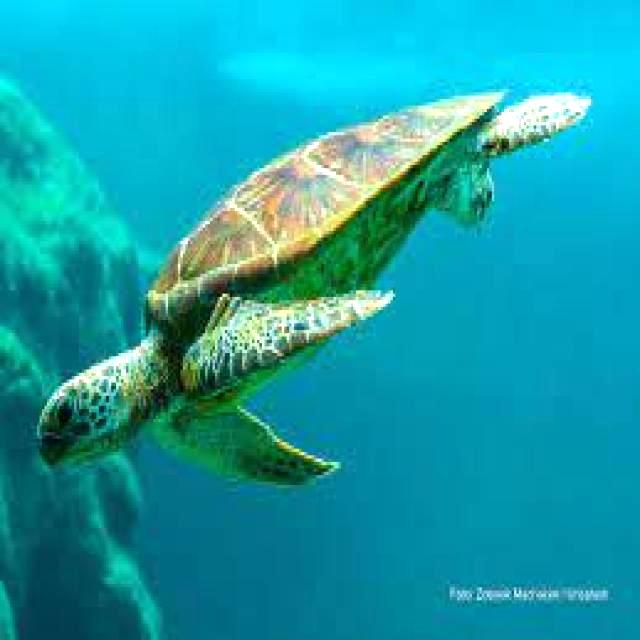Sea turtle: (29, 88, 596, 504)
